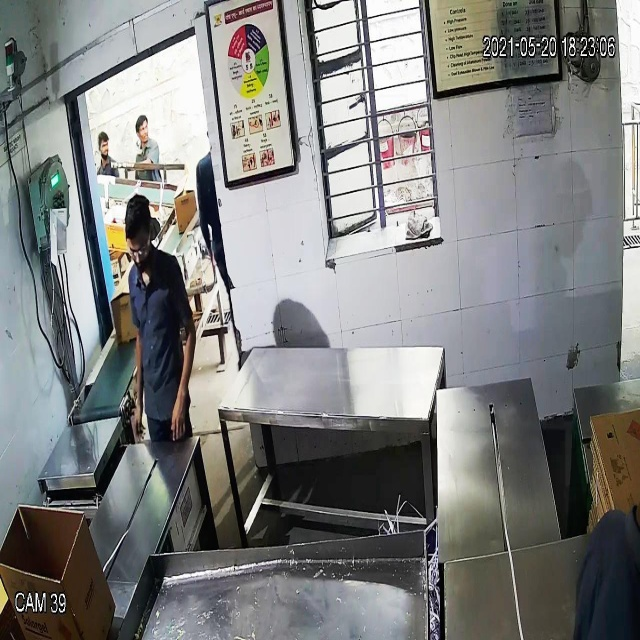Gafas: (126, 237, 153, 262)
